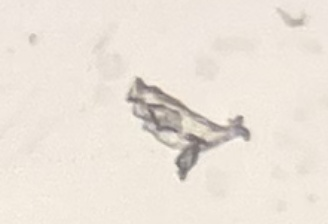microplastic: (123, 74, 255, 185)
